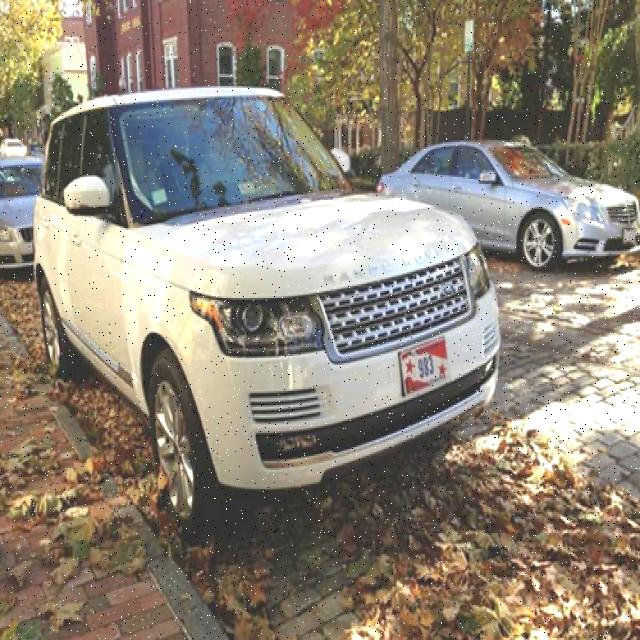Autre: (391, 333, 448, 393)
